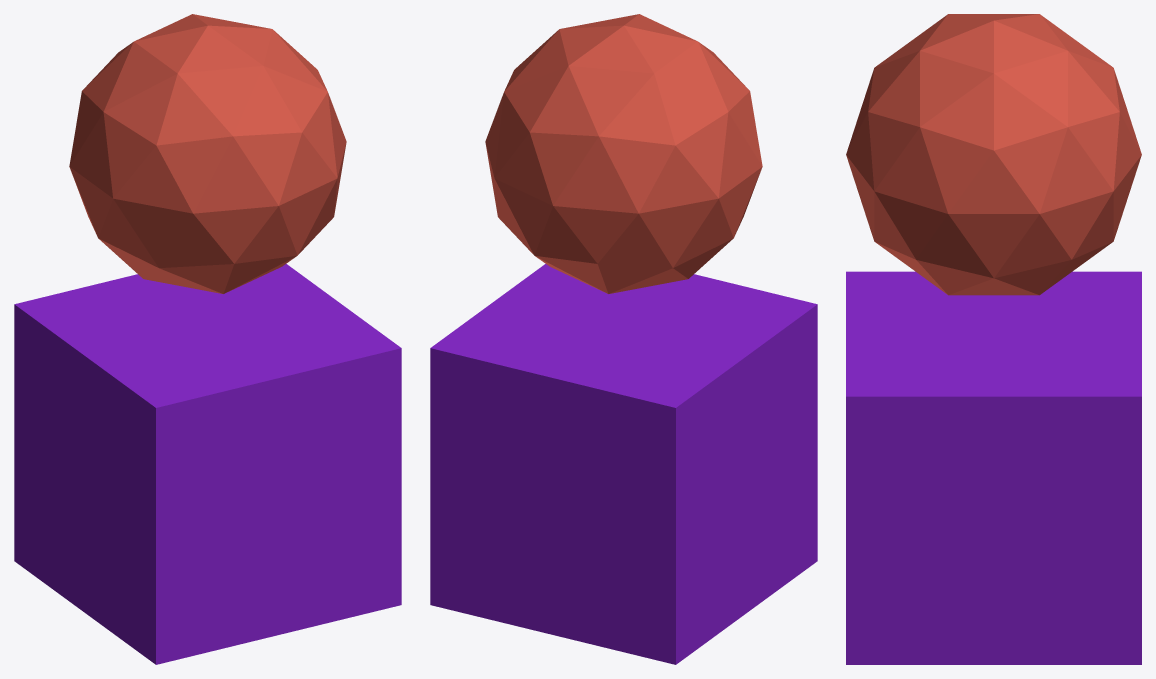
3 views of the same model, side by side, from view 1: azimuth 30°, elevation 25°; view 2: azimuth 150°, elevation 25°; view 3: azimuth 270°, elevation 25° (orthographic). The views are drawn at different scales.
Parts seen in each view (by area): view 1: Cube, Icosphere; view 2: Cube, Icosphere; view 3: Cube, Icosphere.
Boxes of the visible parts, left/top/right/bottom form: Cube: left=14, top=264, right=401, bottom=664; Icosphere: left=69, top=14, right=346, bottom=293; Cube: left=430, top=264, right=817, bottom=664; Icosphere: left=485, top=14, right=762, bottom=293; Cube: left=846, top=271, right=1141, bottom=664; Icosphere: left=846, top=14, right=1141, bottom=295.
Bounding box in the file's own units: 200 × 434 × 200.
